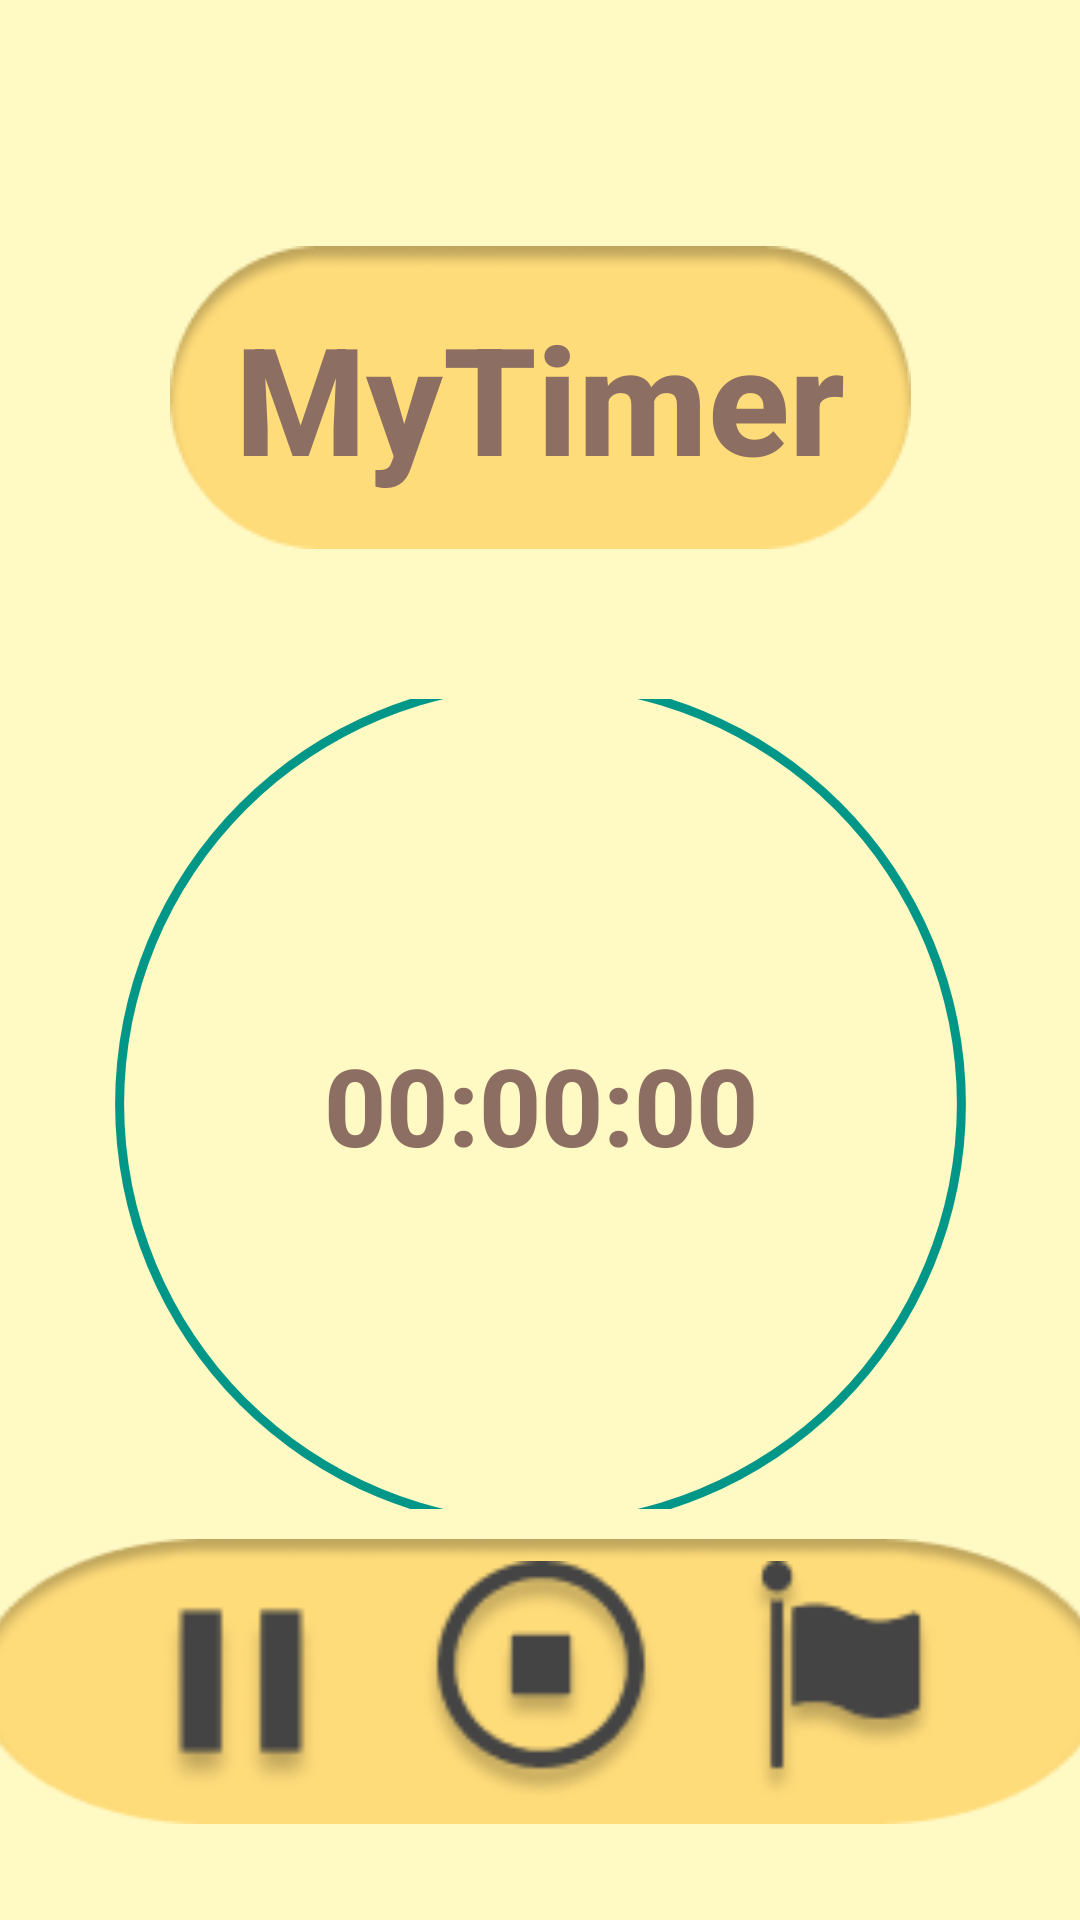

Named icons in this screenshot (1080×1920) and their centers, (x=x, y=y):
Mark: (x=842, y=1671)
Pause: (x=241, y=1690)
